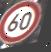Speed Limit -60-: (0, 0, 46, 47)
